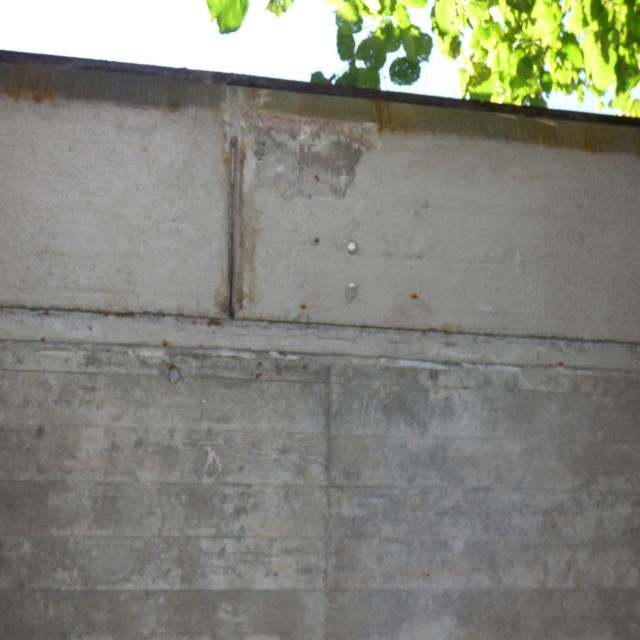corrosion: (204, 84, 639, 158), (212, 138, 256, 326), (0, 51, 103, 119), (402, 277, 459, 352), (293, 293, 314, 320), (160, 332, 174, 354)
